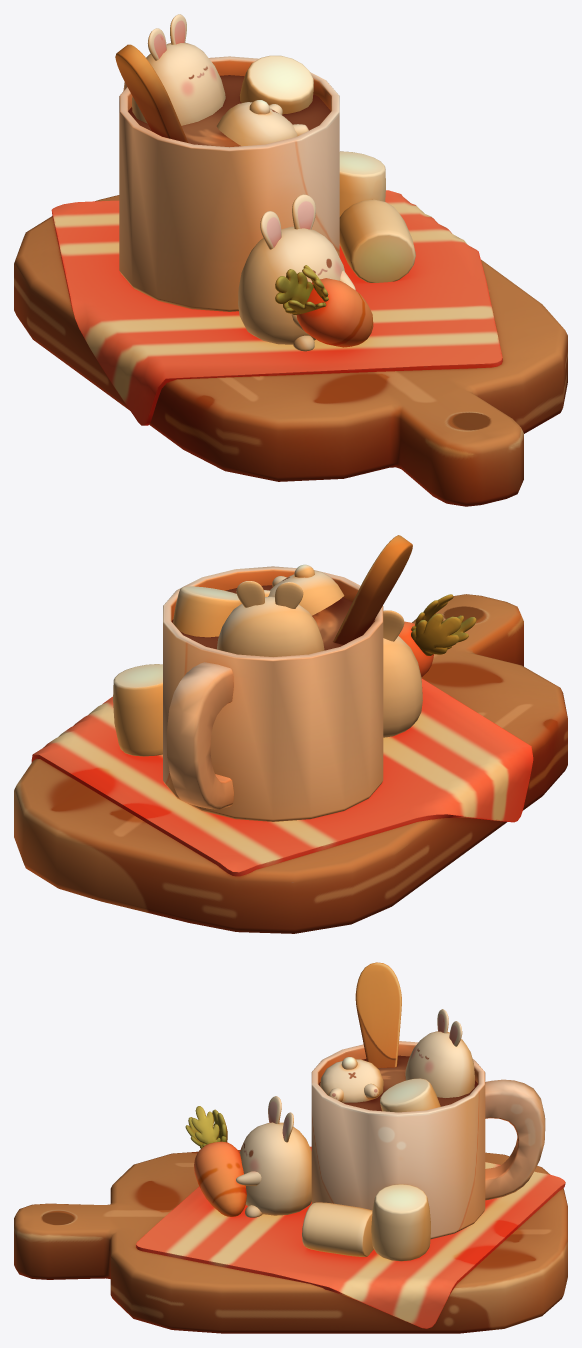
The model's file is bunny.fbx.
The picture shows the model from 3 angles, top to bottom: view 1: azimuth 30°, elevation 25°; view 2: azimuth 150°, elevation 25°; view 3: azimuth 270°, elevation 25°; orthographic projection. The views are drawn at different scales.
Parts seen in each view (by area): view 1: Mesh_Table_chow, Mesh_Cup, Mesh_Bony, Mesh_Malva, Mesh_Carriot, Mesh_Palette; view 2: Mesh_Table_chow, Mesh_Cup, Mesh_Bony, Mesh_Malva, Mesh_Palette, Mesh_Carriot; view 3: Mesh_Table_chow, Mesh_Cup, Mesh_Bony, Mesh_Malva, Mesh_Carriot, Mesh_Palette.
Boxes of the visible parts, <box> form: Mesh_Table_chow: <box>14,190,567,506</box>; Mesh_Cup: <box>119,56,339,311</box>; Mesh_Bony: <box>132,14,355,351</box>; Mesh_Malva: <box>239,55,415,282</box>; Mesh_Carriot: <box>275,265,373,347</box>; Mesh_Palette: <box>115,44,188,142</box>; Mesh_Table_chow: <box>14,594,567,933</box>; Mesh_Cup: <box>163,566,383,821</box>; Mesh_Bony: <box>217,564,422,737</box>; Mesh_Malva: <box>113,586,241,756</box>; Mesh_Palette: <box>333,535,412,644</box>; Mesh_Carriot: <box>398,594,476,676</box>; Mesh_Table_chow: <box>14,1146,567,1333</box>; Mesh_Cup: <box>311,1041,545,1239</box>; Mesh_Bony: <box>236,1009,474,1217</box>; Mesh_Malva: <box>302,1078,440,1261</box>; Mesh_Carriot: <box>185,1106,246,1216</box>; Mesh_Palette: <box>355,962,401,1067</box>.
Bounding box in the file's own units: 231 × 187 × 370.
Materials: 2 (2 with a texture image).
